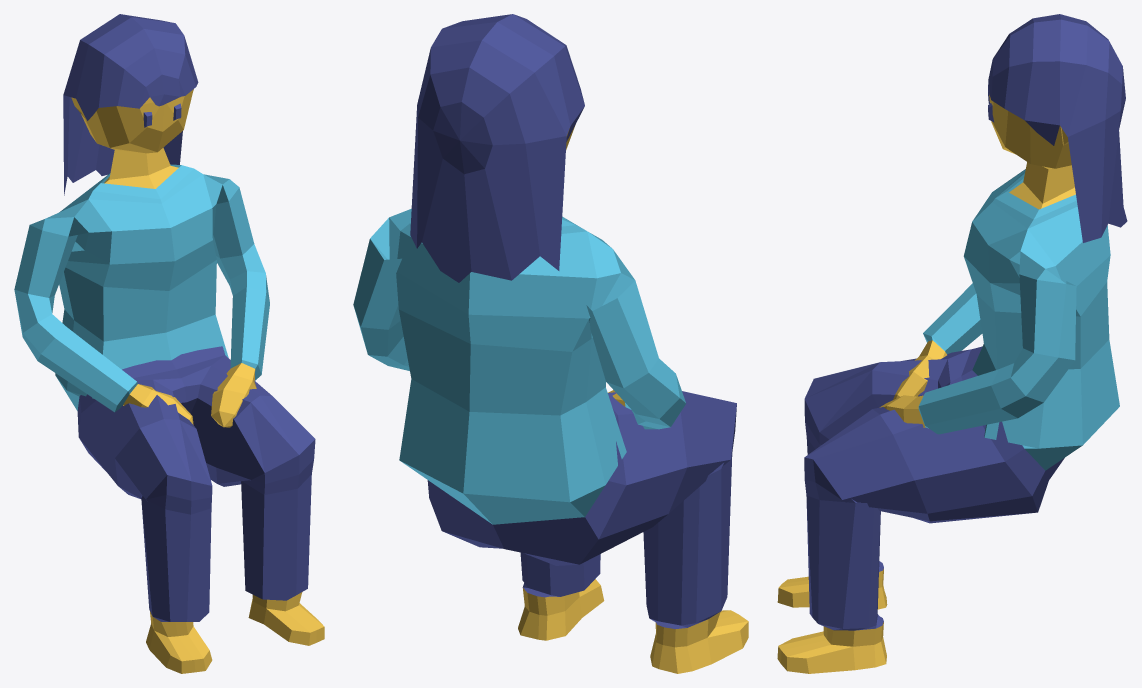
File: 087_聞き手(Woman).glb
3 views of the same model, side by side, from view 1: azimuth 30°, elevation 25°; view 2: azimuth 150°, elevation 25°; view 3: azimuth 270°, elevation 25° (orthographic). The views are drawn at different scales.
Visible parts, largest first — view 1: 立方体015_4, 立方体015_2, 立方体015, 立方体015_1, 立方体015_3; view 2: 立方体015_4, 立方体015, 立方体015_2, 立方体015_1; view 3: 立方体015_4, 立方体015_2, 立方体015, 立方体015_1, 立方体015_3.
Part boxes in pixels (x1,y1,x2,y2): 立方体015_4: (14,164,269,412); 立方体015_2: (77,346,315,621); 立方体015: (63,14,198,195); 立方体015_1: (71,89,324,673); 立方体015_3: (123,363,256,427); 立方体015_4: (353,208,685,524); 立方体015: (410,14,584,282); 立方体015_2: (427,391,736,629); 立方体015_1: (518,124,748,673); 立方体015_4: (918,169,1119,470); 立方体015_2: (804,346,1064,630); 立方体015: (988,14,1127,242); 立方体015_1: (777,95,1075,673); 立方体015_3: (879,340,946,427).
Size of the model in its own units: 0.7519 by 1.62 by 0.8379.
